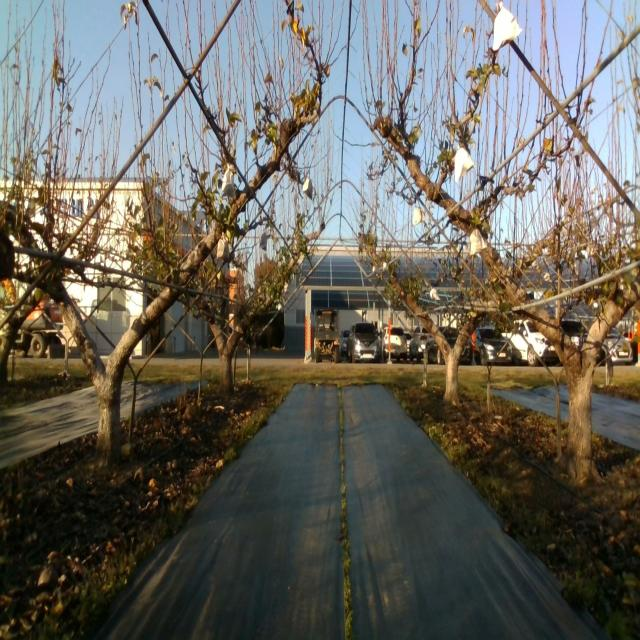pearbags: (492, 1, 523, 54), (454, 148, 475, 182), (470, 226, 488, 256), (222, 163, 234, 198), (216, 230, 230, 260), (412, 206, 426, 225), (302, 174, 312, 198)
